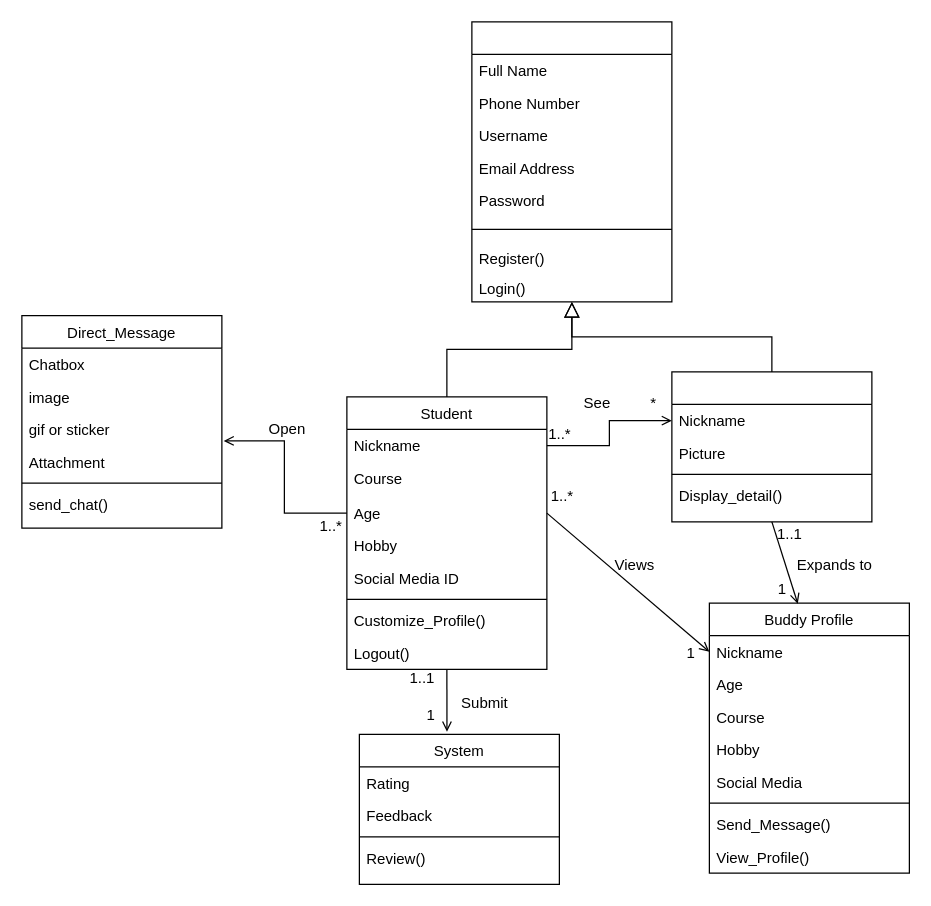
Image size: 931x906. Some labels were removed from this diagram. Each missing label, with the box of its shape:
Buddy: (671, 371, 872, 522)
Person: (471, 21, 672, 302)
